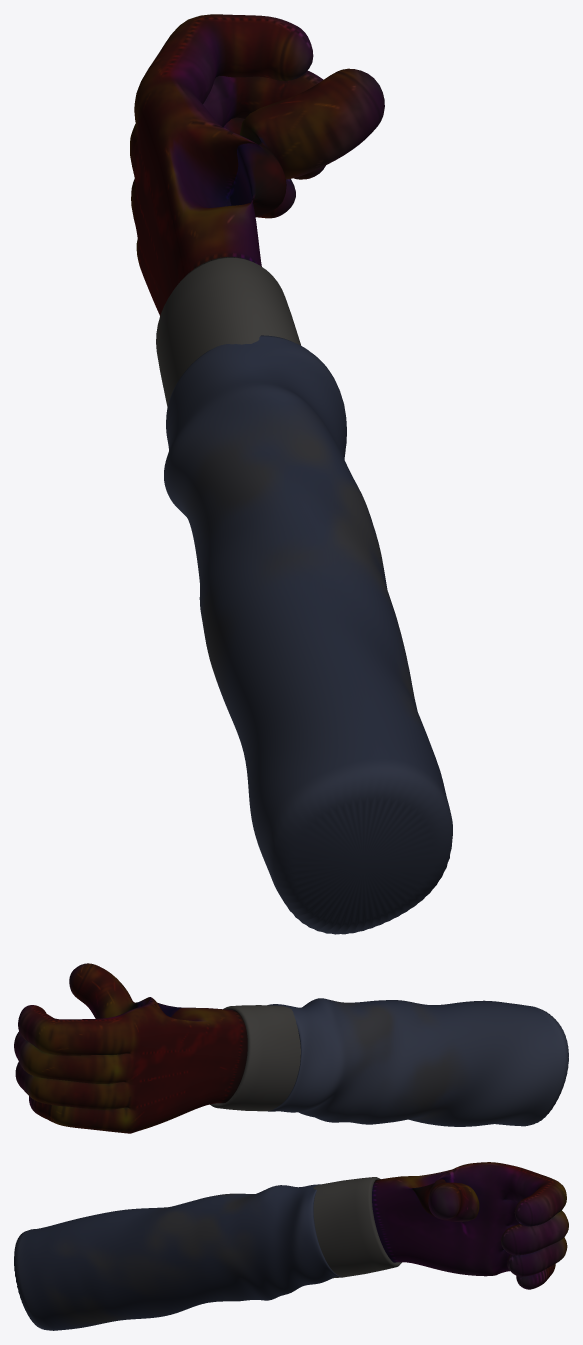
Rendered from fp_hand_L_camera.glb.
3 renders of one model, top to bottom at view 1: azimuth 30°, elevation 25°; view 2: azimuth 150°, elevation 25°; view 3: azimuth 270°, elevation 25°, orthographic. The views are drawn at different scales.
Parts seen in each view (by area): view 1: fp_hand_L_camera; view 2: fp_hand_L_camera; view 3: fp_hand_L_camera.
Boxes of the visible parts, x1,y1,x2,y2 form: fp_hand_L_camera: (130,14,452,934); fp_hand_L_camera: (14,963,568,1133); fp_hand_L_camera: (14,1162,568,1330).
Bounding box in the file's own units: 0.2247 × 0.1942 × 0.4088.
3 materials, 1 textured.
